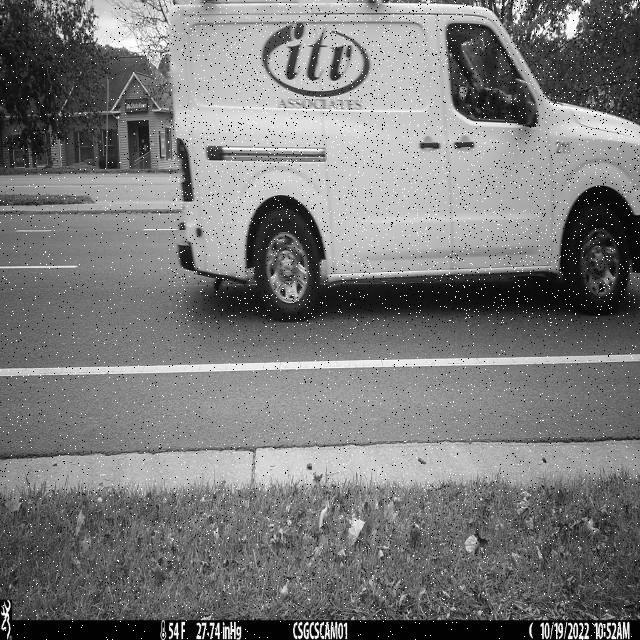Van: (168, 0, 640, 325)
